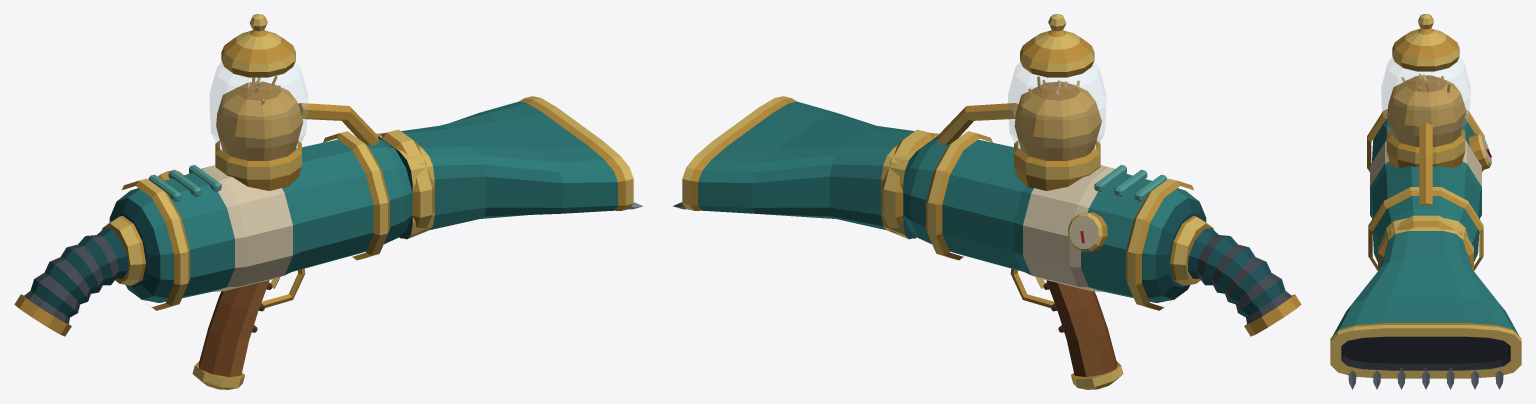
File: vacuum.glb
3 renders of one model, left to right at view 1: azimuth 30°, elevation 25°; view 2: azimuth 150°, elevation 25°; view 3: azimuth 270°, elevation 25°, orthographic. The views are drawn at different scales.
Parts seen in each view (by area): view 1: vacuum; view 2: vacuum; view 3: vacuum.
Part boxes in pixels (x1=…): vacuum: x1=14, y1=14, x2=642, y2=389; vacuum: x1=673, y1=14, x2=1301, y2=389; vacuum: x1=1330, y1=14, x2=1521, y2=389.
Size of the model in its own units: 0.8731 by 0.5193 by 0.2733.
